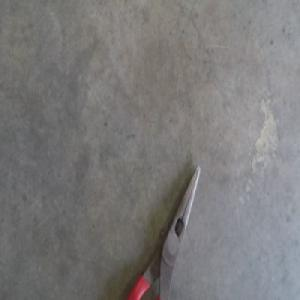Pliers: (127, 165, 200, 298)
